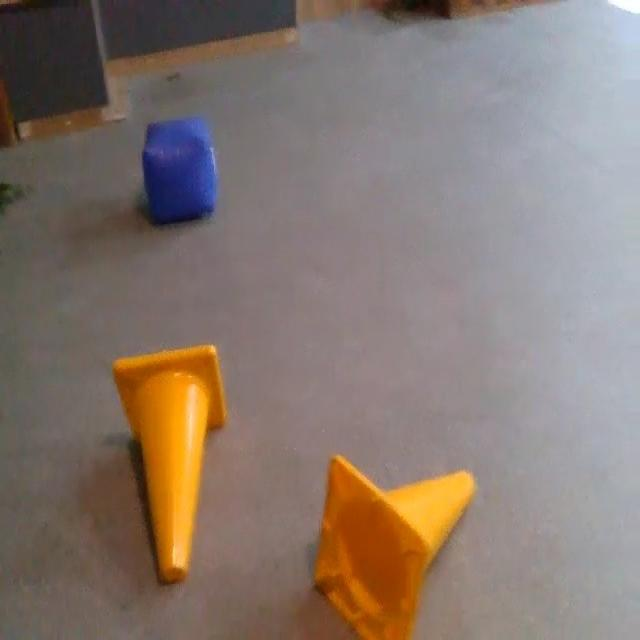cone: (310, 452, 479, 640), (112, 343, 227, 580)
cube: (140, 115, 220, 230)
